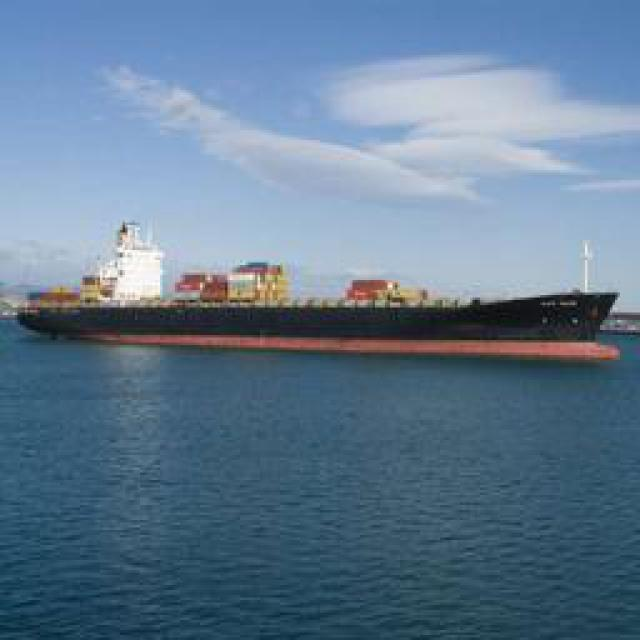Ship: (26, 234, 616, 357)
